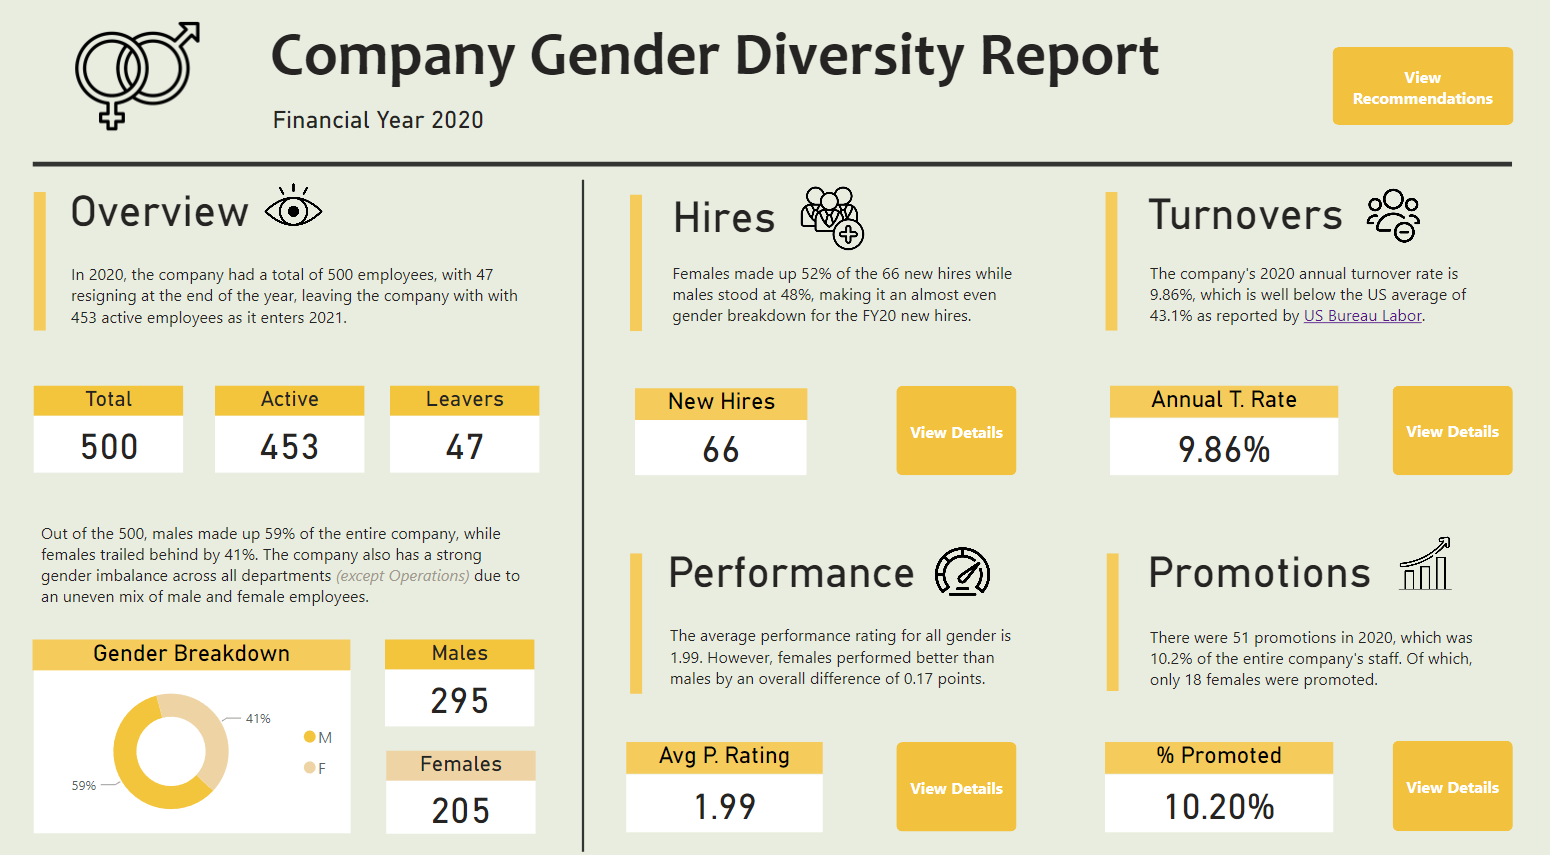

The dashboard page shown, as its layout file describes it:
{"tool":"powerbi","page":{"name":"Main Report","canvas":[1280,720],"ordinal":0},"visuals":[{"type":"shape","title":"Company Gender Diversity Report","box":[224.6,16,768.4,67.7],"z":0},{"type":"group","id":"g1","title":"Group 5","box":[27.7,323.2,123,71.3],"z":0,"group":"g11"},{"type":"card","fields":{"Values":["Measures.Employees.FY20 Total Employees All Gender Incl Leavers"]},"box":[27.7,348.1,124.2,47.5],"z":0,"group":"g1"},{"type":"card","fields":{"Values":["Measures.Employees.FY20 Total Employees All Gender Excl Leavers"]},"box":[178.1,348.1,124.2,47.5],"z":0,"group":"g3"},{"type":"card","fields":{"Values":["Measures.Turnover.FY20 Total Leavers All Gender"]},"box":[323.6,348.1,124.2,47.5],"z":0,"group":"g5"},{"type":"card","fields":{"Values":["Measures.Turnover.FY20 % Annual Turnover Rate"]},"box":[922,349.5,189.5,47],"z":0,"group":"g7"},{"type":"card","fields":{"Values":["Measures.Hires.FY20 Total New Hires All Gender"]},"box":[527.7,349.8,142.3,47],"z":0,"group":"g10"},{"type":"donutChart","fields":{"Y":["Measures.Employees.FY20 Total Employees All Gender Incl Leavers"],"Category":["FACT-table.Gender"]},"box":[27.8,557.7,263,136],"z":0,"group":"g6"},{"type":"card","fields":{"Values":["Measures.Employees.FY20 Total Male Employees"]},"box":[319.6,558,124.2,47.5],"z":0,"group":"g4"},{"type":"group","id":"g2","title":"Group 4","box":[319.8,625.7,124,68],"z":0,"group":"g12"},{"type":"card","fields":{"Values":["Measures.Performance.FY20 Avg Perf Rating All Gender"]},"box":[520.6,645.1,162.8,48.2],"z":0,"group":"g9"},{"type":"card","fields":{"Values":["Measures.Promotions.FY20 % of Promoted Employees Against Total Employees"]},"box":[918.1,645.1,189.3,48.2],"z":0,"group":"g8"},{"type":"card","fields":{"Values":["Measures.Employees.FY20 Total Female Employees"]},"box":[319.8,650.2,124.2,44.3],"z":0,"group":"g2"},{"type":"shape","title":"Annual T. Rate","box":[922,323,189.5,26.5],"z":1000,"group":"g7"},{"type":"shape","title":"Total","box":[27.7,323.2,124.2,24.9],"z":1000,"group":"g1"},{"type":"group","id":"g3","title":"Group 5","box":[178.1,323.2,123,71.3],"z":1000,"group":"g11"},{"type":"shape","title":"Active","box":[178.1,323.2,124.2,24.9],"z":1000,"group":"g3"},{"type":"shape","title":"Leavers","box":[323.6,323.2,124.2,24.9],"z":1000,"group":"g5"},{"type":"shape","title":"New Hires","box":[527.7,324.5,143.5,26.5],"z":1000,"group":"g10"},{"type":"shape","box":[521.1,462.2,14.5,117],"z":1000},{"type":"shape","title":"Gender Breakdown","box":[26.5,533.1,264.1,25.3],"z":1000,"group":"g6"},{"type":"group","id":"g4","title":"Group 5","box":[319.6,533.1,124.2,72.4],"z":1000,"group":"g12"},{"type":"shape","title":"Males","box":[319.6,533.1,124.2,24.9],"z":1000,"group":"g4"},{"type":"shape","title":"Avg P. Rating","box":[520.6,618.6,162.8,26.5],"z":1000,"group":"g9"},{"type":"shape","title":"% Promoted","box":[918.1,618.6,189.3,26.5],"z":1000,"group":"g8"},{"type":"shape","title":"Females","box":[319.8,625.7,124.2,24.5],"z":1000,"group":"g2"},{"type":"group","id":"g5","title":"Group 5","box":[323.6,323.2,123,71.3],"z":2000,"group":"g11"},{"type":"shape","box":[918,462,13,114],"z":2000},{"type":"group","id":"g6","title":"Group 1","box":[26.5,533.1,264.3,160.6],"z":2000,"group":"g12"},{"type":"shape","title":"Performance","box":[554,457,242,46],"z":3000},{"type":"shape","title":"Turnovers","box":[953,159,203,46],"z":4000},{"type":"shape","title":"Promotions","box":[953,457,243,46],"z":5000},{"type":"shape","title":"Financial Year 2020","box":[226.4,89.1,399.3,33.9],"z":6000},{"type":"shape","title":"Overview","box":[57.8,156.9,168.4,46.2],"z":7000},{"type":"shape","box":[27.5,120.9,1229.2,37.1],"z":8000},{"type":"shape","box":[27,162,12,115],"z":9000},{"type":"shape","box":[478.9,151.9,11.6,558.2],"z":10000},{"type":"shape","title":"Hires","box":[558.4,161.6,100.1,45.8],"z":11000},{"type":"group","id":"g7","title":"Group 7","box":[922,323,190,73],"z":12000},{"type":"group","id":"g8","title":"Group 8","box":[918.1,618.6,190.8,74.9],"z":13000},{"type":"textbox","box":[950.4,517.4,299.1,68.7],"z":14000},{"type":"textbox","box":[950.4,214.7,299.1,83.2],"z":15000},{"type":"group","id":"g9","title":"Group 9","box":[520.6,618.6,162.8,74.8],"z":16000},{"type":"shape","box":[917,162,13,115],"z":17000},{"type":"group","id":"g10","title":"Group 6","box":[527.7,324.5,142.6,73.1],"z":18000},{"type":"actionButton","box":[1156,323,100,74],"z":19000},{"type":"actionButton","box":[744.1,618.7,100.1,74.8],"z":20000},{"type":"actionButton","box":[1156,618,100,75],"z":21000},{"type":"textbox","box":[551.2,516.2,300.3,84.4],"z":22000},{"type":"group","id":"g11","title":"Group 13","box":[27.7,323.2,419.7,71.2],"z":23000},{"type":"shape","box":[522.3,164.1,12.1,113.4],"z":24000},{"type":"textbox","box":[553.6,214.7,299.1,84.4],"z":25000},{"type":"actionButton","box":[744.1,323.2,100.1,74.8],"z":26000},{"type":"textbox","box":[54.3,215.9,389.5,71.2],"z":27000},{"type":"textbox","box":[28.9,430.6,414.9,84.4],"z":28000},{"type":"image","box":[27.7,9.6,172.5,113.4],"z":29000},{"type":"image","box":[652.7,152.9,77.2,62.7],"z":30000},{"type":"image","box":[1105.2,140.1,102.6,82.3],"z":31000},{"type":"image","box":[767,436.6,63.9,79.6],"z":32000},{"type":"image","box":[1154.3,443.5,57.8,53.5],"z":33000},{"type":"image","box":[214.7,141.1,57.9,62.7],"z":34000},{"type":"group","id":"g12","title":"Group 2","box":[26.5,533.1,417.3,160.4],"z":35000},{"type":"actionButton","box":[1107,42,150,65],"z":36000}]}

Visuals, with their boxes in screenshot pixels (x1, y1, x2, y2), scaled from the page's 1280x720 canvas onto the 1550x855 screenshot:
"Company Gender Diversity Report" shape: 272,19,1202,99
"Group 5" group: 34,384,182,468
card - Measures.Employees.FY20 Total Employees All Gender Incl Leavers: 34,413,184,470
card - Measures.Employees.FY20 Total Employees All Gender Excl Leavers: 216,413,366,470
card - Measures.Turnover.FY20 Total Leavers All Gender: 392,413,542,470
card - Measures.Turnover.FY20 % Annual Turnover Rate: 1116,415,1346,471
card - Measures.Hires.FY20 Total New Hires All Gender: 639,415,811,471
donutChart - Measures.Employees.FY20 Total Employees All Gender Incl Leavers x FACT-table.Gender: 34,662,352,824
card - Measures.Employees.FY20 Total Male Employees: 387,663,537,719
"Group 4" group: 387,743,537,824
card - Measures.Performance.FY20 Avg Perf Rating All Gender: 630,766,828,823
card - Measures.Promotions.FY20 % of Promoted Employees Against Total Employees: 1112,766,1341,823
card - Measures.Employees.FY20 Total Female Employees: 387,772,538,825
"Annual T. Rate" shape: 1116,384,1346,415
"Total" shape: 34,384,184,413
"Group 5" group: 216,384,365,468
"Active" shape: 216,384,366,413
"Leavers" shape: 392,384,542,413
"New Hires" shape: 639,385,813,417
shape: 631,549,649,688
"Gender Breakdown" shape: 32,633,352,663
"Group 5" group: 387,633,537,719
"Males" shape: 387,633,537,663
"Avg P. Rating" shape: 630,735,828,766
"% Promoted" shape: 1112,735,1341,766
"Females" shape: 387,743,538,772
"Group 5" group: 392,384,541,468
shape: 1112,549,1127,684
"Group 1" group: 32,633,352,824
"Performance" shape: 671,543,964,597
"Turnovers" shape: 1154,189,1400,243
"Promotions" shape: 1154,543,1448,597
"Financial Year 2020" shape: 274,106,758,146
"Overview" shape: 70,186,274,241
shape: 33,144,1522,188
shape: 33,192,47,329
shape: 580,180,594,843
"Hires" shape: 676,192,797,246
"Group 7" group: 1116,384,1347,470
"Group 8" group: 1112,735,1343,824
textbox: 1151,614,1513,696
textbox: 1151,255,1513,354
"Group 9" group: 630,735,828,823
shape: 1110,192,1126,329
"Group 6" group: 639,385,812,472
actionButton: 1400,384,1521,471
actionButton: 901,735,1022,824
actionButton: 1400,734,1521,823
textbox: 667,613,1031,713
"Group 13" group: 34,384,542,468
shape: 632,195,647,330
textbox: 670,255,1033,355
actionButton: 901,384,1022,473
textbox: 66,256,537,341
textbox: 35,511,537,612
image: 34,11,242,146
image: 790,182,884,256
image: 1338,166,1463,264
image: 929,518,1006,613
image: 1398,527,1468,590
image: 260,168,330,242
"Group 2" group: 32,633,537,824
actionButton: 1341,50,1522,127
